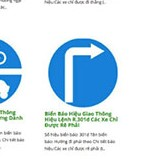Turn_right: (46, 36, 118, 108)
